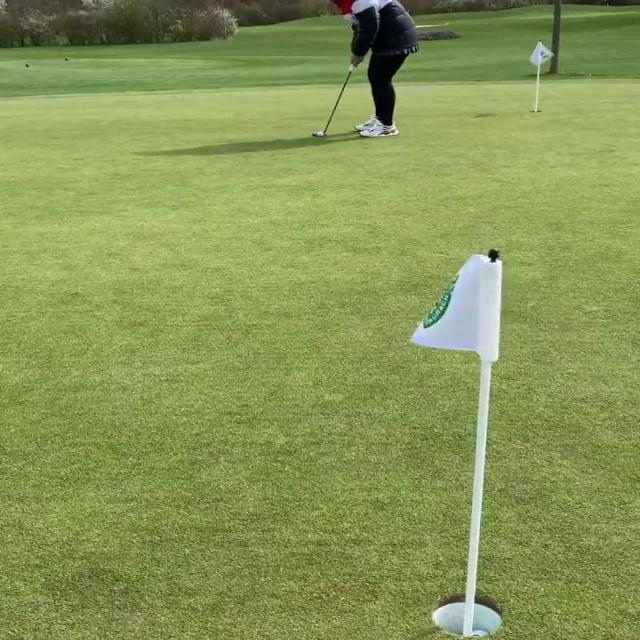golf ball: (473, 630, 487, 637), (317, 132, 324, 136)
golf club-handle: (312, 63, 353, 137)
golf club-head: (312, 133, 326, 137)
